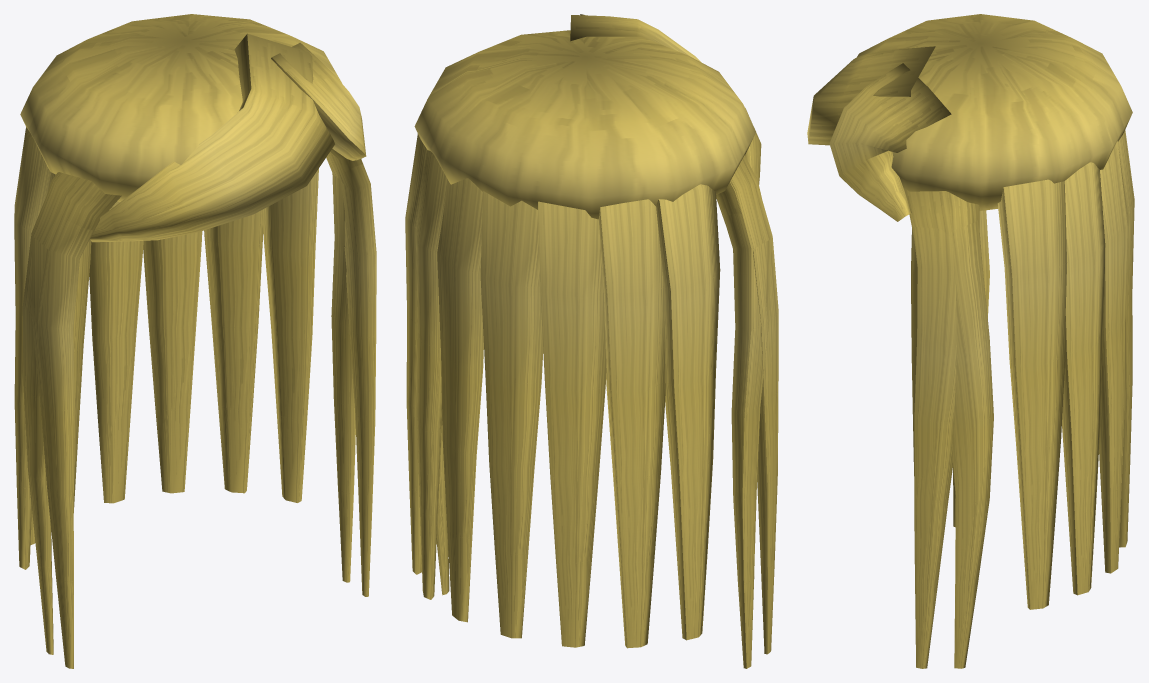
Rendered from long_blonde.glb.
3 views of the same model, side by side, from view 1: azimuth 30°, elevation 25°; view 2: azimuth 150°, elevation 25°; view 3: azimuth 270°, elevation 25° (orthographic). The views are drawn at different scales.
Parts seen in each view (by area): view 1: hair_long_blonde; view 2: hair_long_blonde; view 3: hair_long_blonde.
Boxes of the visible parts, bbox=[...] form: hair_long_blonde: bbox=[14, 14, 376, 668]; hair_long_blonde: bbox=[405, 14, 778, 668]; hair_long_blonde: bbox=[807, 14, 1134, 668].
Size of the model in its own units: 1.56 by 2.64 by 1.38.
1 material, 1 textured.
